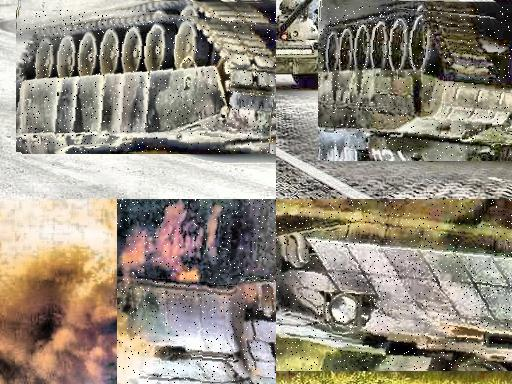tanks: (277, 200, 512, 371), (18, 11, 277, 154), (319, 7, 512, 162), (118, 200, 277, 384), (277, 1, 325, 89)
